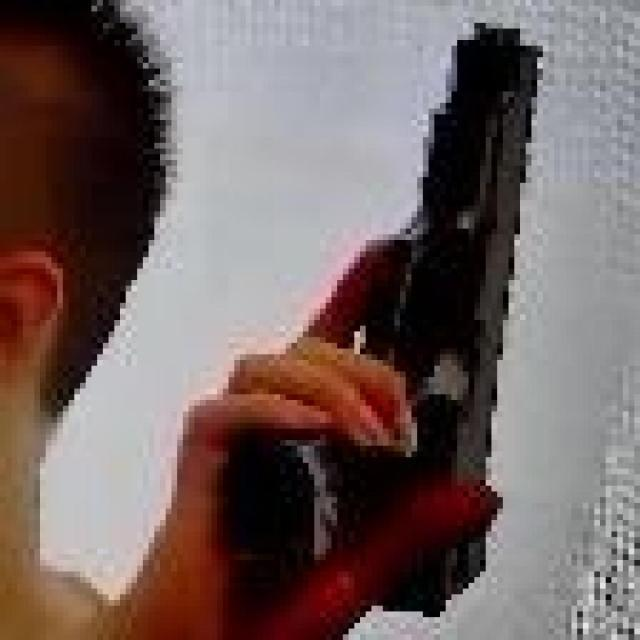pistol: (213, 15, 572, 623)
